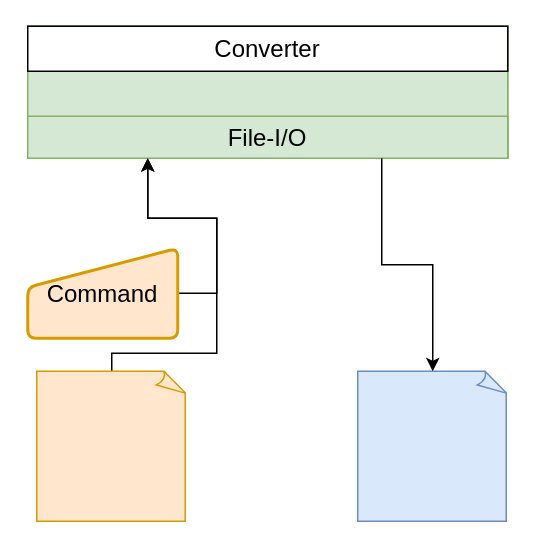
This 534x548 diagram has some shape labels left out. Here are the shapes that lost their labels. From the top down, the box of each, then its label:
(35, 370, 187, 521): Input-file
(356, 370, 508, 521): Output-file
